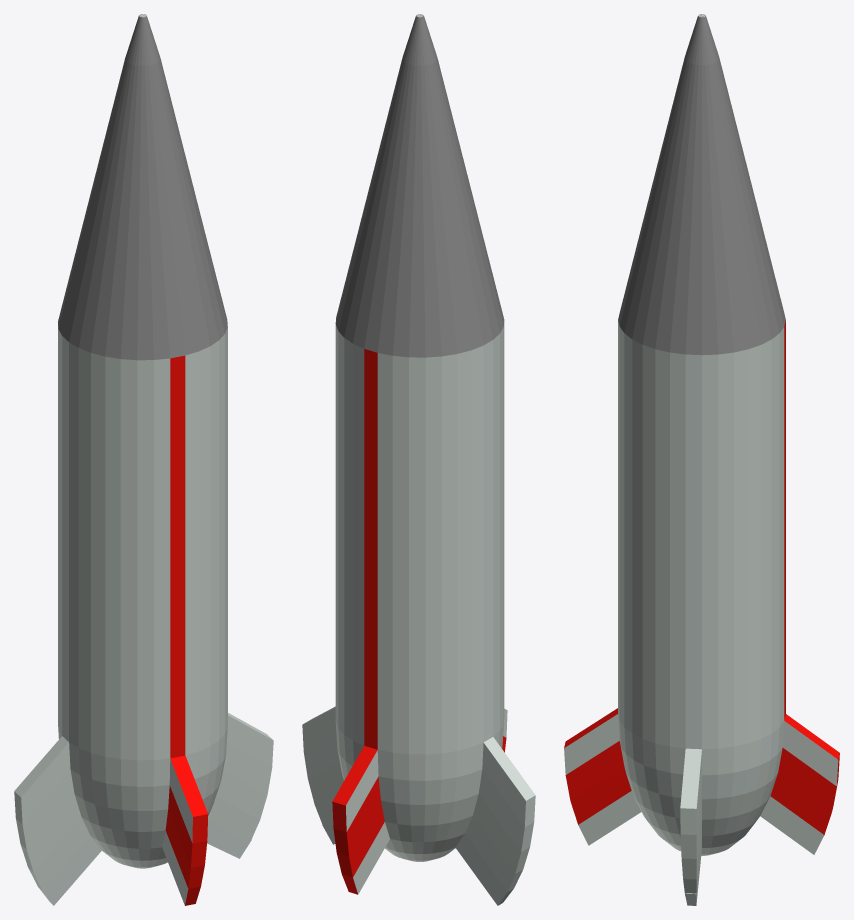
File: rocket.fbx
3 views of the same model, side by side, from view 1: azimuth 30°, elevation 25°; view 2: azimuth 150°, elevation 25°; view 3: azimuth 270°, elevation 25° (orthographic).
Parts seen in each view (by area): view 1: Sphere; view 2: Sphere; view 3: Sphere.
Boxes of the visible parts, box(x1,y1,x2,y2) form: Sphere: box(14, 14, 273, 905); Sphere: box(302, 14, 535, 905); Sphere: box(564, 14, 839, 905).
Size of the model in its own units: 83.37 by 289 by 84.11.
